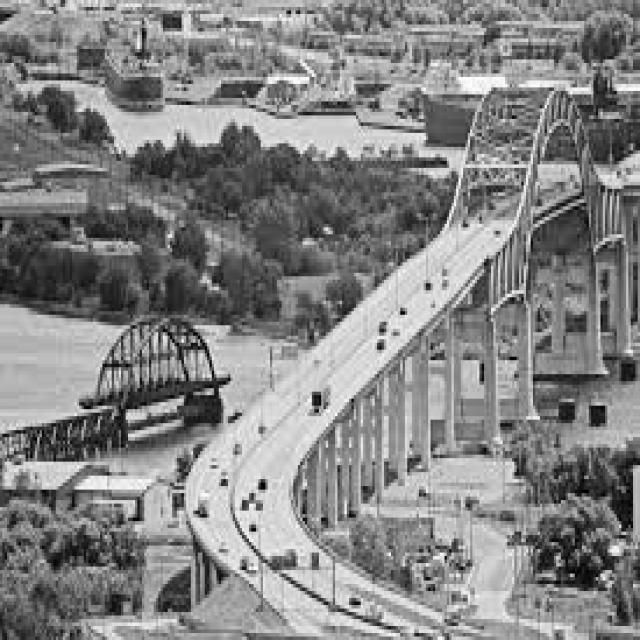Bridges: (192, 30, 640, 486)
